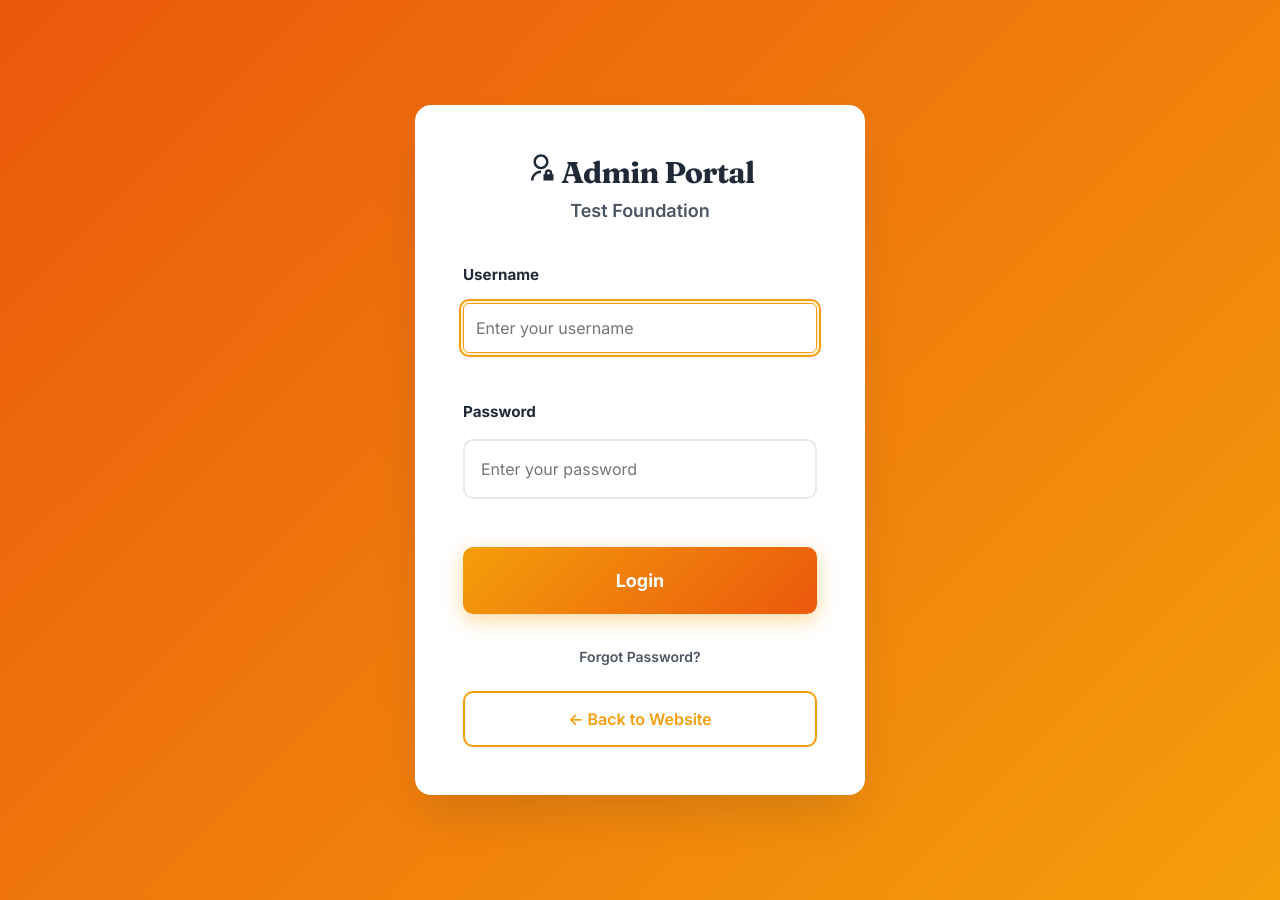
Scenario: AdminLogin › shows error message when login fails
Type "admin" into the field with placeholder "Enter your username" at (640, 328), box x1=463 y1=302 x2=817 y2=352
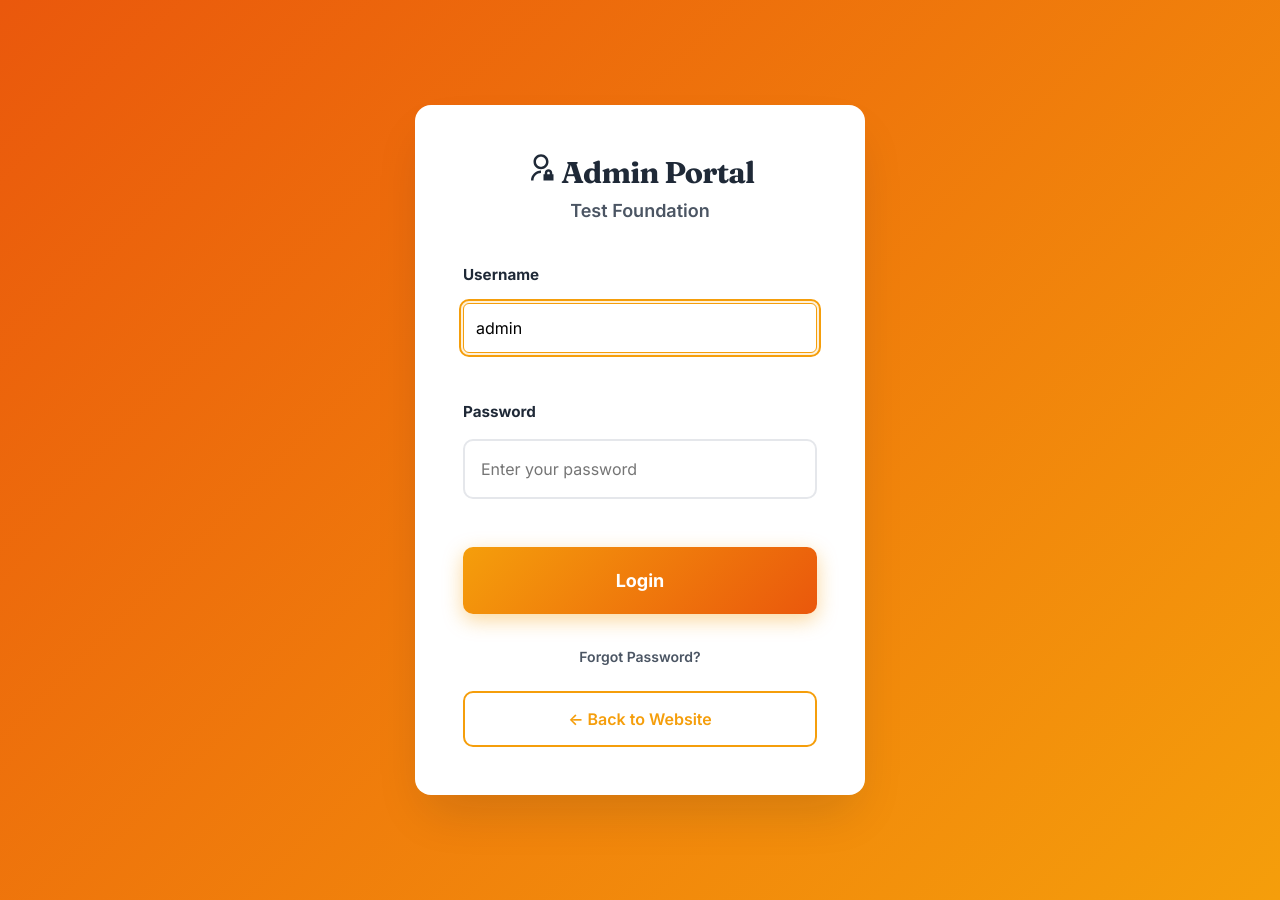
Type "wrong" into the password field with placeholder "Enter your password" at (640, 469), box x1=463 y1=439 x2=817 y2=499
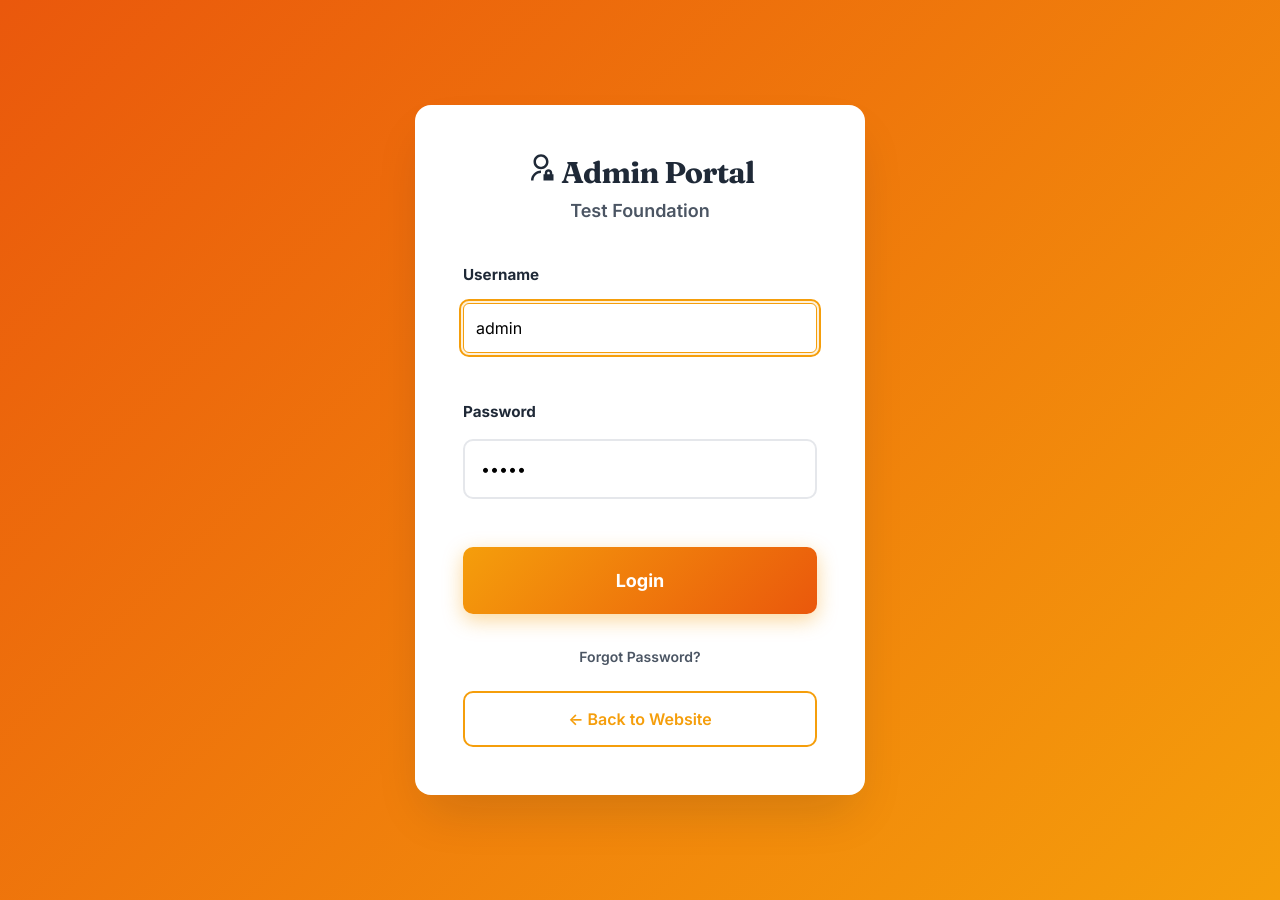
Click the button "Login" at (640, 581), box x1=463 y1=547 x2=817 y2=614
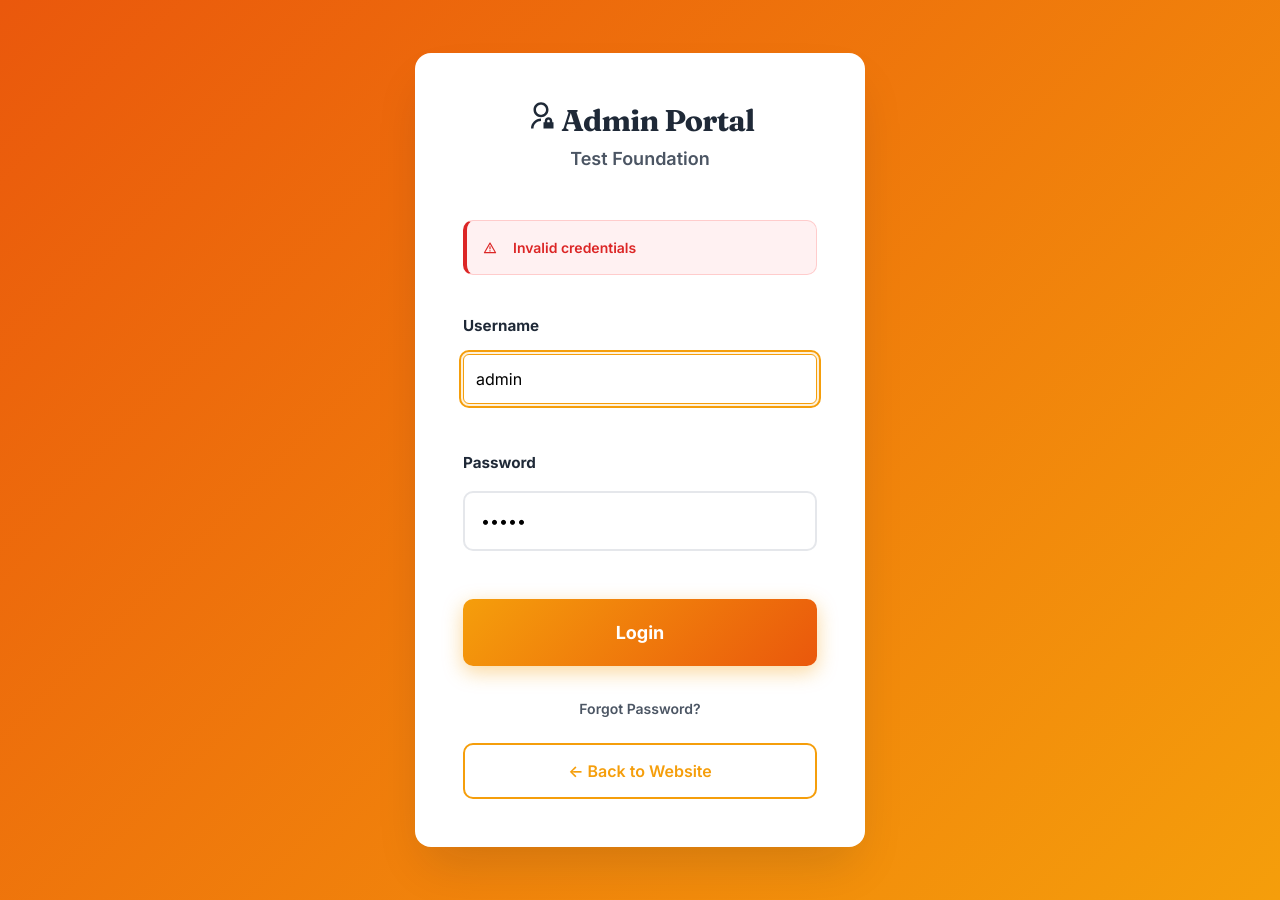
Expected: the text "Invalid credentials" is shown, x1=463 y1=220 x2=817 y2=275
